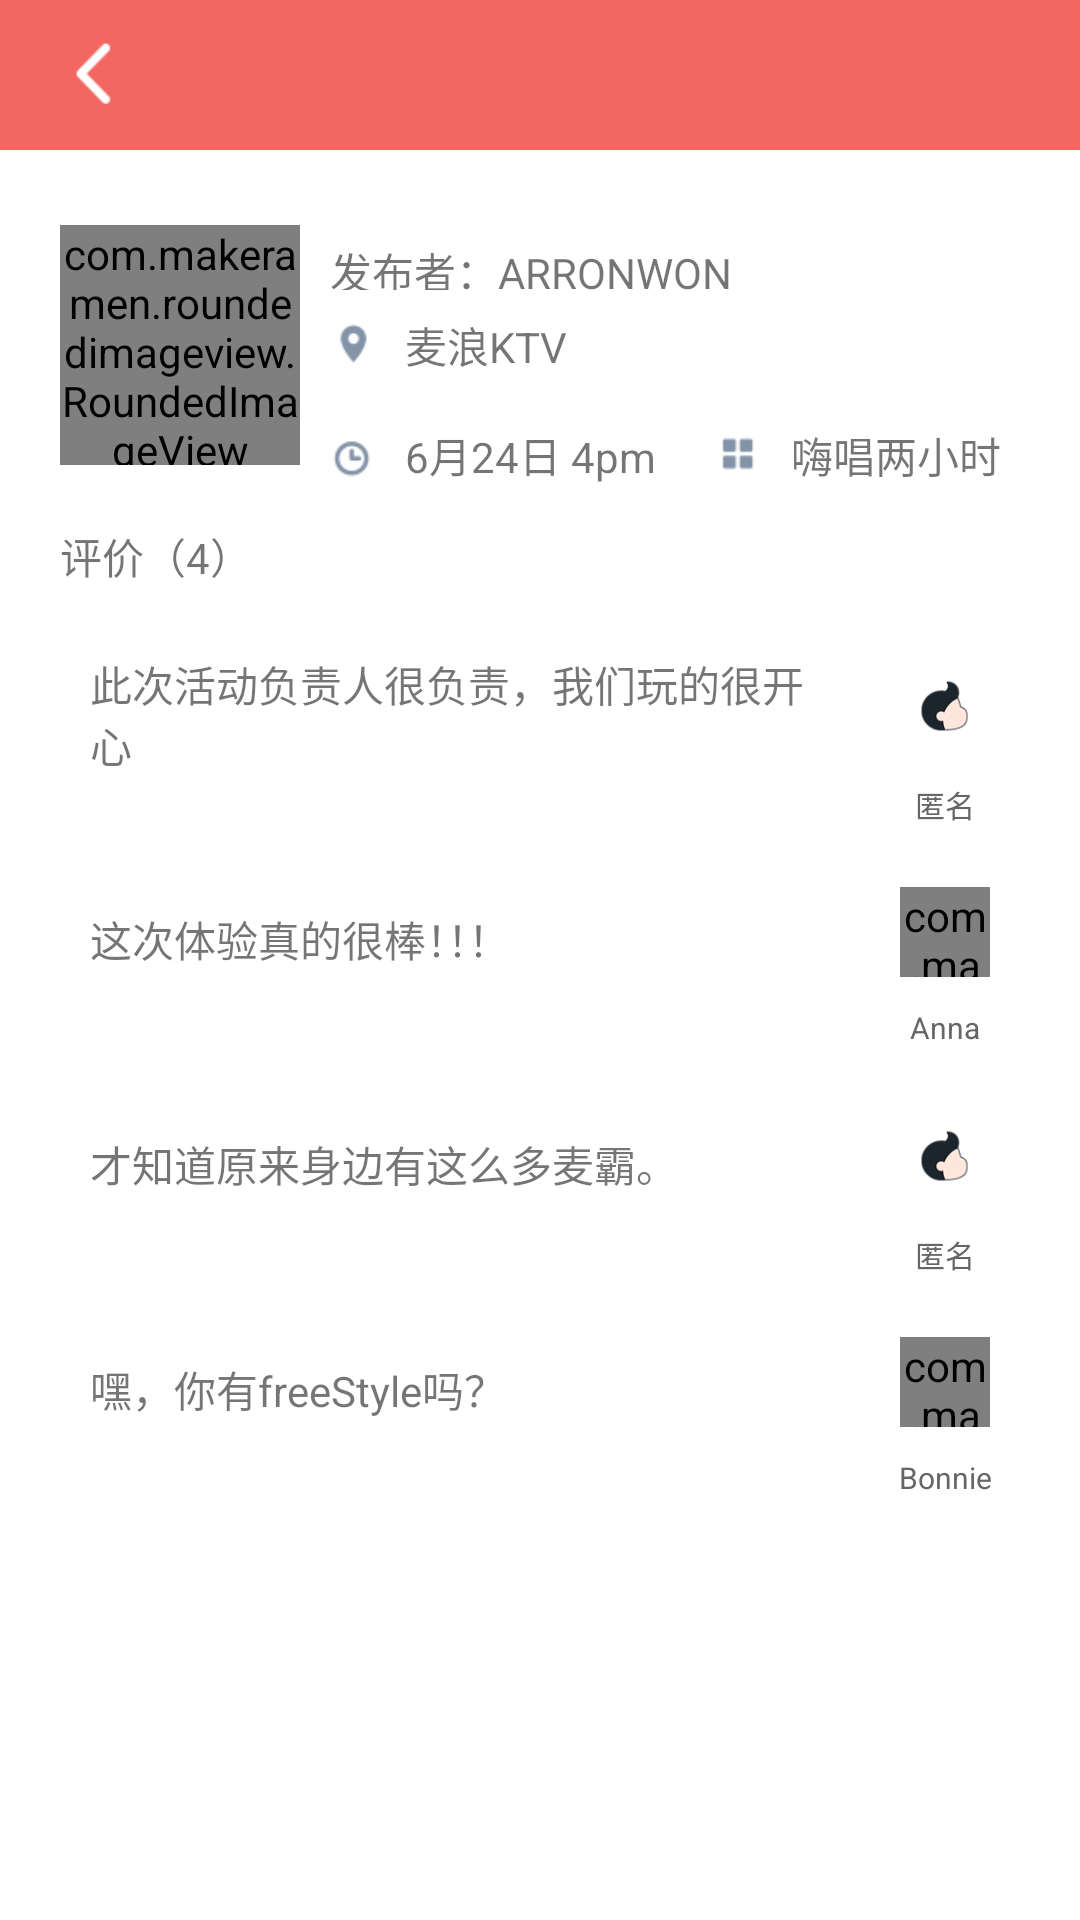

Icons on this 1080×1920 Android screen, each with its box as (x1, y1, x2, y2):
head: (921, 681, 968, 731), (921, 1131, 968, 1181)
